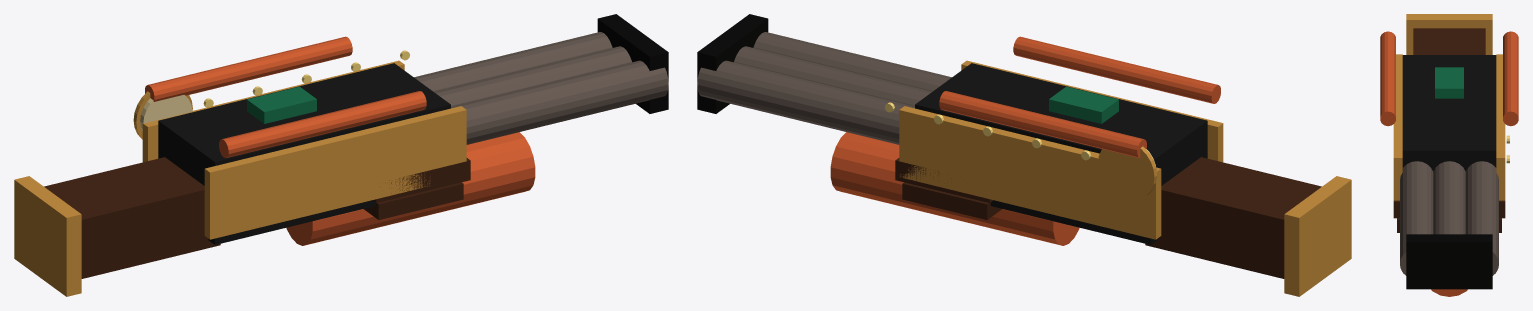
Rendered from V0135WA_002_SteamScattergun_FinalComponentPack.obj.
3 views of the same model, side by side, from view 1: azimuth 30°, elevation 25°; view 2: azimuth 150°, elevation 25°; view 3: azimuth 270°, elevation 25° (orthographic). The views are drawn at different scales.
Visible parts, largest first — view 1: aged_brass_receiver_side_plates_R, shoulder_stock_walnut_core, blackened_iron_receiver_box, triple_heat_barrel_z0.18, lower_steam_expansion_tank, stock_brass_butt_plate, right_copper_bypass_coil, left_copper_bypass_coil, triple_heat_barrel_z0, triple_heat_barrel_z-0.18, oil_soot_muzzle_smear, route_green_loaded_indicator (+4 smaller); view 2: aged_brass_receiver_side_plates, shoulder_stock_walnut_core, blackened_iron_receiver_box, triple_heat_barrel_z-0.18, lower_steam_expansion_tank, stock_brass_butt_plate, right_copper_bypass_coil, left_copper_bypass_coil, triple_heat_barrel_z0, triple_heat_barrel_z0.18, rear_pressure_dial_rim, oil_soot_muzzle_smear (+4 smaller); view 3: blackened_iron_receiver_box, oil_soot_muzzle_smear, triple_heat_barrel_z-0.18, triple_heat_barrel_z0.18, triple_heat_barrel_z0, shoulder_stock_walnut_core, stock_brass_butt_plate, left_copper_bypass_coil, right_copper_bypass_coil, aged_brass_receiver_side_plates, aged_brass_receiver_side_plates_R, route_green_loaded_indicator (+2 smaller).
Boxes of the visible parts, x1=… form: aged_brass_receiver_side_plates_R: x1=204, y1=106, x2=466, y2=239; shoulder_stock_walnut_core: x1=44, y1=157, x2=220, y2=278; blackened_iron_receiver_box: x1=158, y1=63, x2=450, y2=244; triple_heat_barrel_z0.18: x1=451, y1=60, x2=668, y2=144; lower_steam_expansion_tank: x1=286, y1=132, x2=535, y2=245; stock_brass_butt_plate: x1=14, y1=176, x2=81, y2=296; right_copper_bypass_coil: x1=219, y1=91, x2=426, y2=158; left_copper_bypass_coil: x1=145, y1=36, x2=352, y2=101; triple_heat_barrel_z0: x1=434, y1=46, x2=631, y2=106; triple_heat_barrel_z-0.18: x1=414, y1=32, x2=612, y2=91; oil_soot_muzzle_smear: x1=597, y1=14, x2=668, y2=113; route_green_loaded_indicator: x1=247, y1=86, x2=316, y2=123; aged_brass_receiver_side_plates: x1=899, y1=106, x2=1161, y2=239; shoulder_stock_walnut_core: x1=1145, y1=157, x2=1321, y2=278; blackened_iron_receiver_box: x1=915, y1=63, x2=1207, y2=244; triple_heat_barrel_z-0.18: x1=697, y1=60, x2=914, y2=144; lower_steam_expansion_tank: x1=830, y1=132, x2=1079, y2=245; stock_brass_butt_plate: x1=1284, y1=176, x2=1351, y2=296; right_copper_bypass_coil: x1=1013, y1=36, x2=1220, y2=103; left_copper_bypass_coil: x1=939, y1=91, x2=1146, y2=158; triple_heat_barrel_z0: x1=734, y1=46, x2=931, y2=106; triple_heat_barrel_z0.18: x1=753, y1=32, x2=951, y2=91; rear_pressure_dial_rim: x1=1098, y1=146, x2=1157, y2=200; oil_soot_muzzle_smear: x1=697, y1=14, x2=768, y2=113; blackened_iron_receiver_box: x1=1402, y1=55, x2=1496, y2=171; oil_soot_muzzle_smear: x1=1406, y1=234, x2=1492, y2=289; triple_heat_barrel_z-0.18: x1=1465, y1=161, x2=1498, y2=275; triple_heat_barrel_z0.18: x1=1400, y1=161, x2=1433, y2=275; triple_heat_barrel_z0: x1=1433, y1=161, x2=1465, y2=234; shoulder_stock_walnut_core: x1=1413, y1=28, x2=1485, y2=54; stock_brass_butt_plate: x1=1406, y1=14, x2=1492, y2=54; left_copper_bypass_coil: x1=1503, y1=31, x2=1518, y2=126; right_copper_bypass_coil: x1=1380, y1=31, x2=1395, y2=126; aged_brass_receiver_side_plates: x1=1496, y1=54, x2=1505, y2=200; aged_brass_receiver_side_plates_R: x1=1393, y1=54, x2=1402, y2=200; route_green_loaded_indicator: x1=1435, y1=67, x2=1463, y2=98.
Bounding box in the file's own units: 3.19 × 0.8 × 0.7678.
